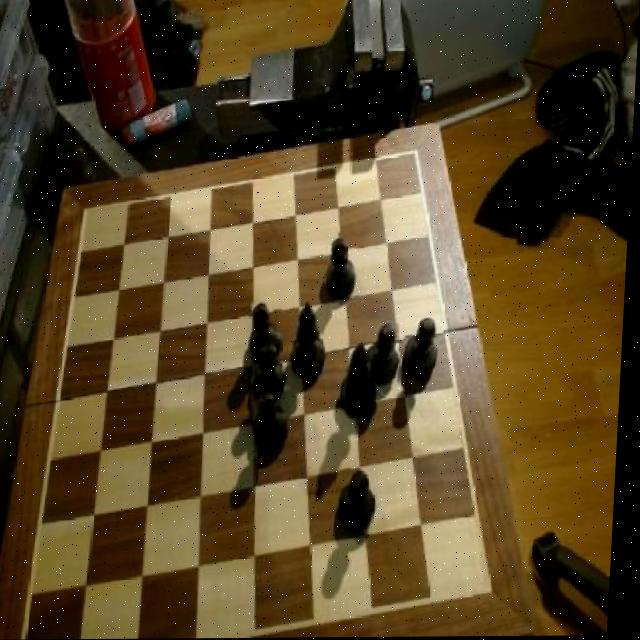bishop: (344, 345, 384, 427), (294, 301, 333, 380)
black-knight: (404, 316, 446, 390), (254, 340, 297, 411), (343, 467, 386, 533), (326, 233, 365, 304), (255, 392, 295, 458), (251, 301, 289, 364), (372, 322, 408, 388)
